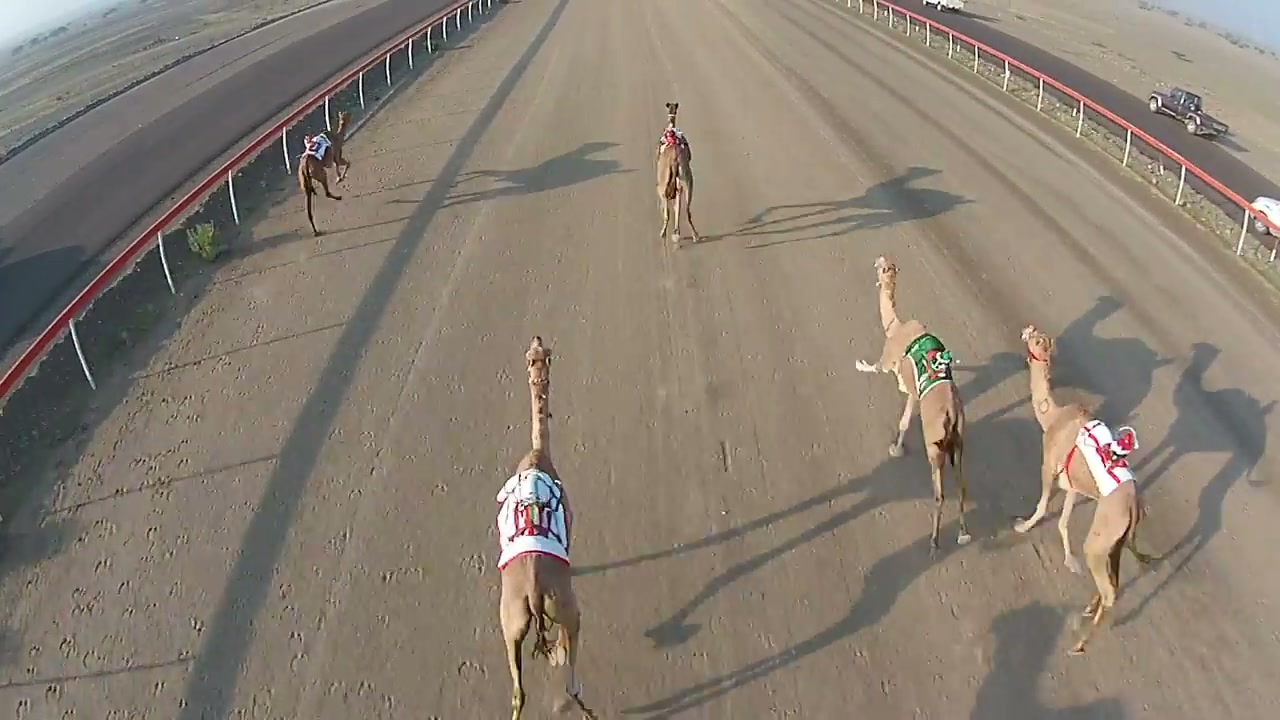animal_footprint: (264, 318, 519, 715), (22, 280, 237, 719)
